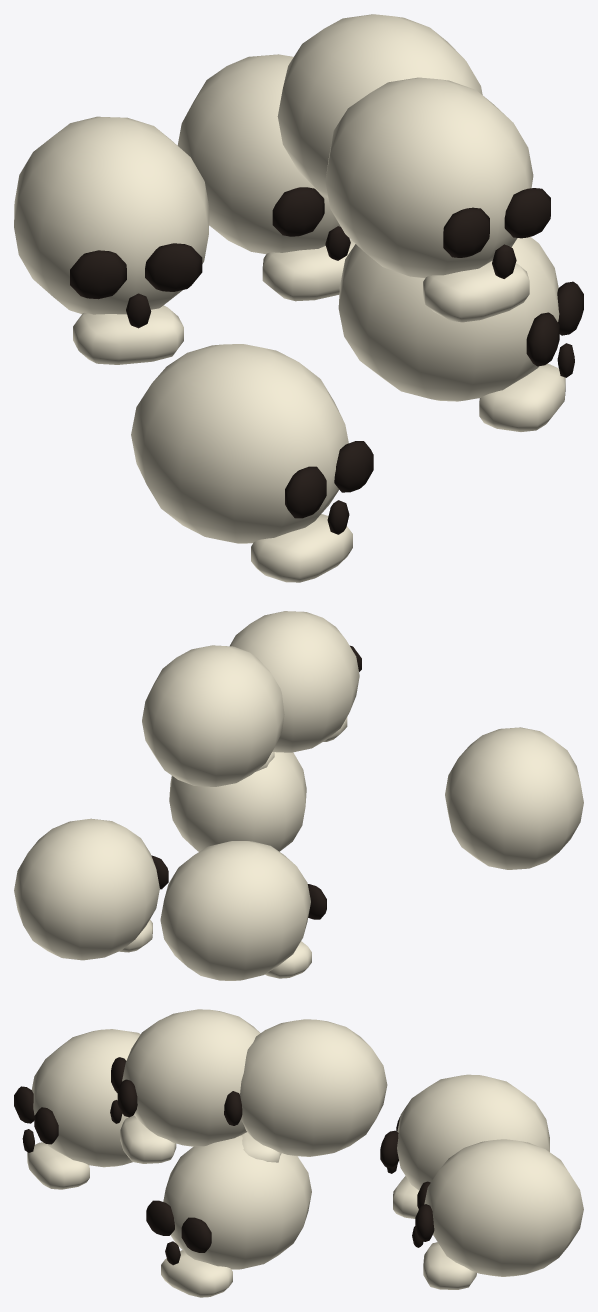
The model's file is prop_tengkorak.glb.
3 views of the same model, one above another, from view 1: azimuth 30°, elevation 25°; view 2: azimuth 150°, elevation 25°; view 3: azimuth 270°, elevation 25° (orthographic). The views are drawn at different scales.
Visible parts, largest first — view 1: tengkorak; view 2: tengkorak; view 3: tengkorak.
Boxes of the visible parts, bbox=[...] form: tengkorak: bbox=[14, 14, 583, 582]; tengkorak: bbox=[14, 611, 583, 980]; tengkorak: bbox=[14, 1009, 583, 1297].
Bounding box in the file's own units: 0.7495 × 0.5 × 1.07.
